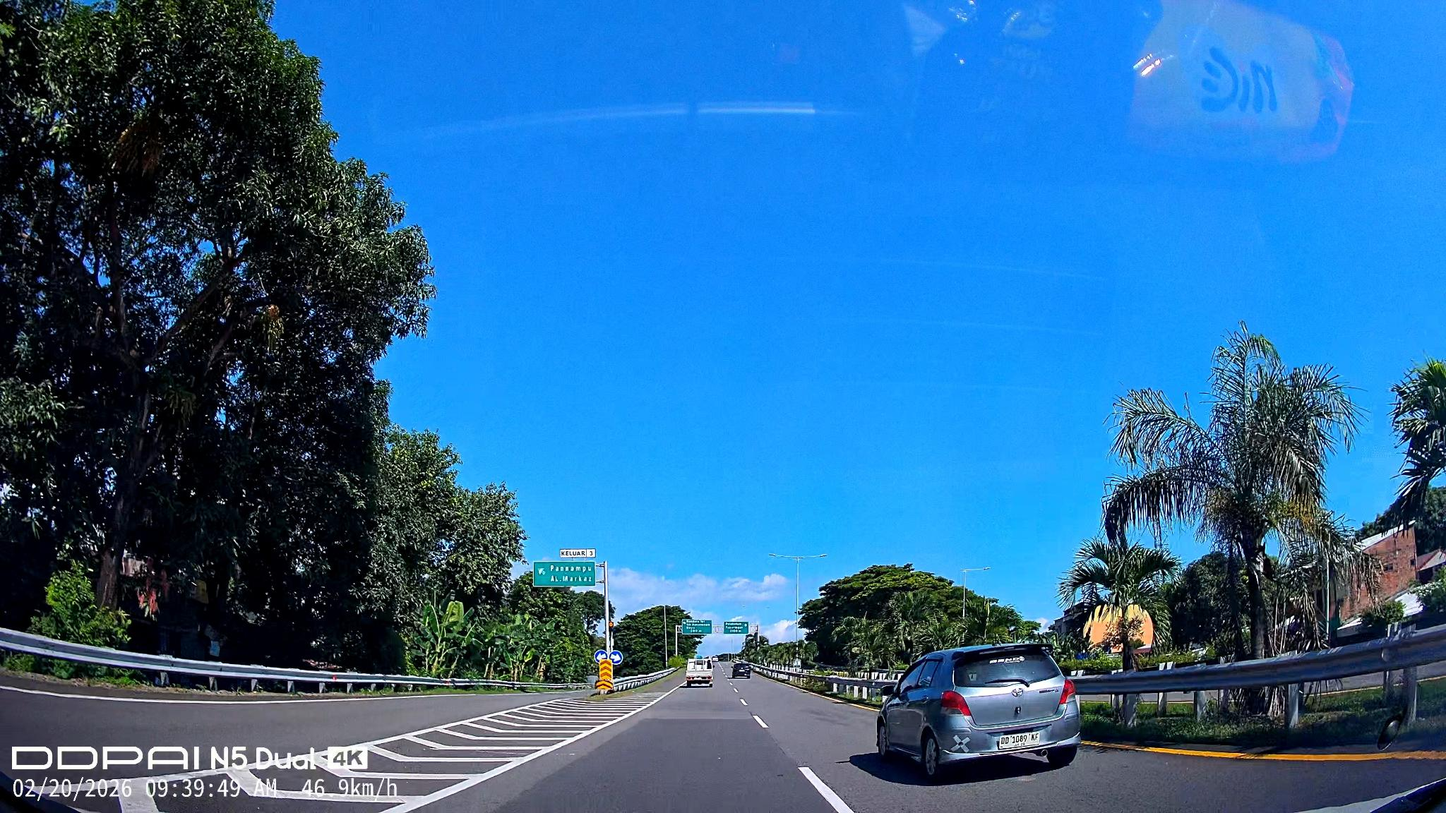rambu_teks: (533, 561, 596, 587)
